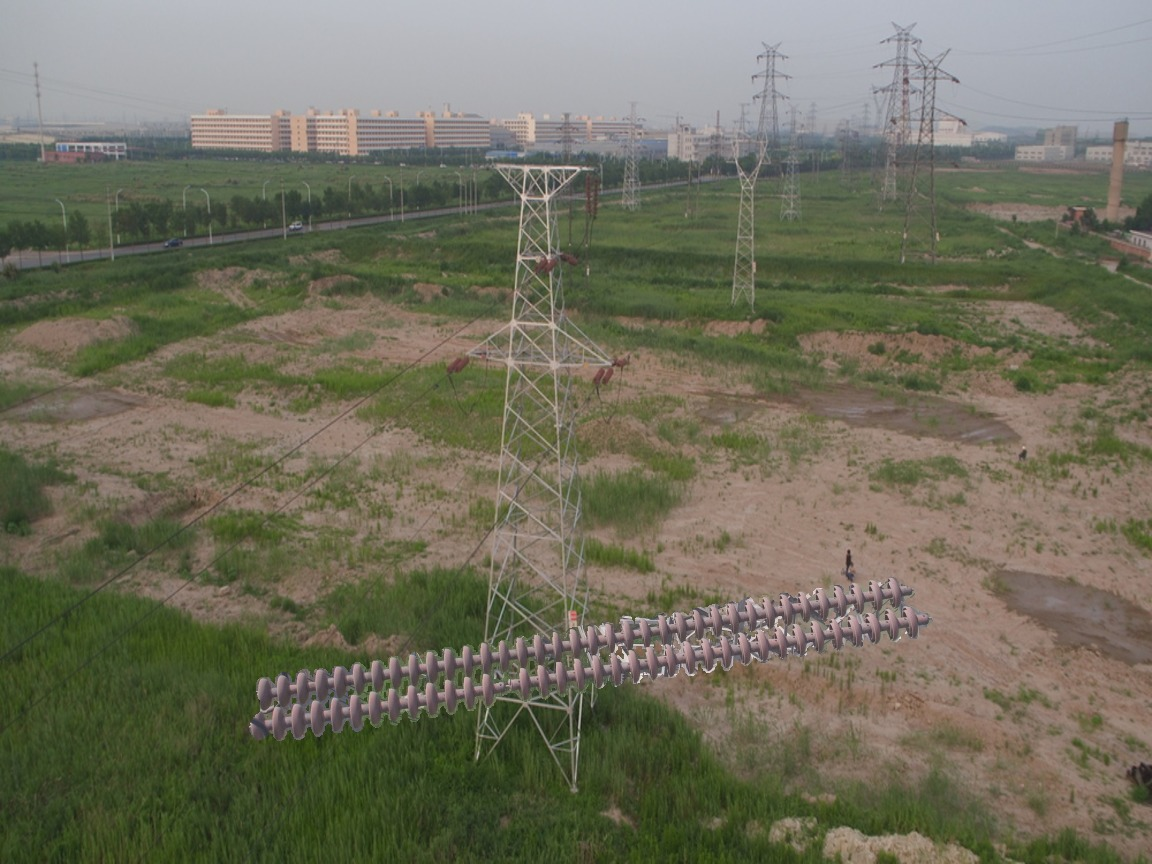defect: (473, 664, 535, 707)
